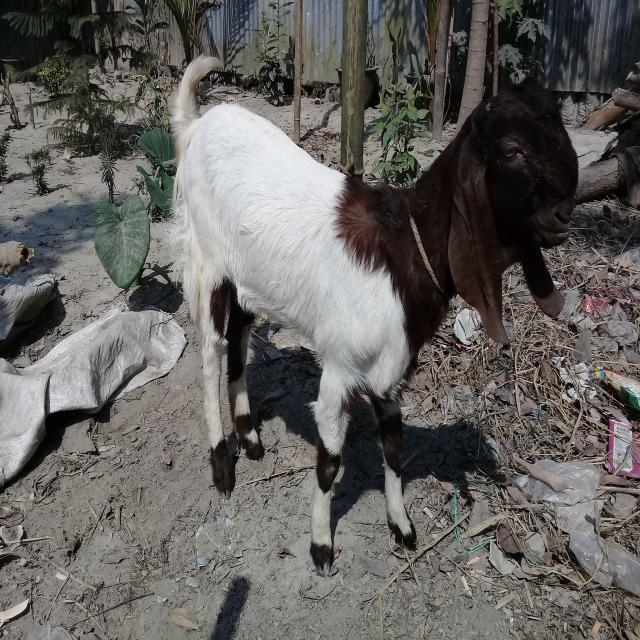Goat: (165, 52, 581, 577)
